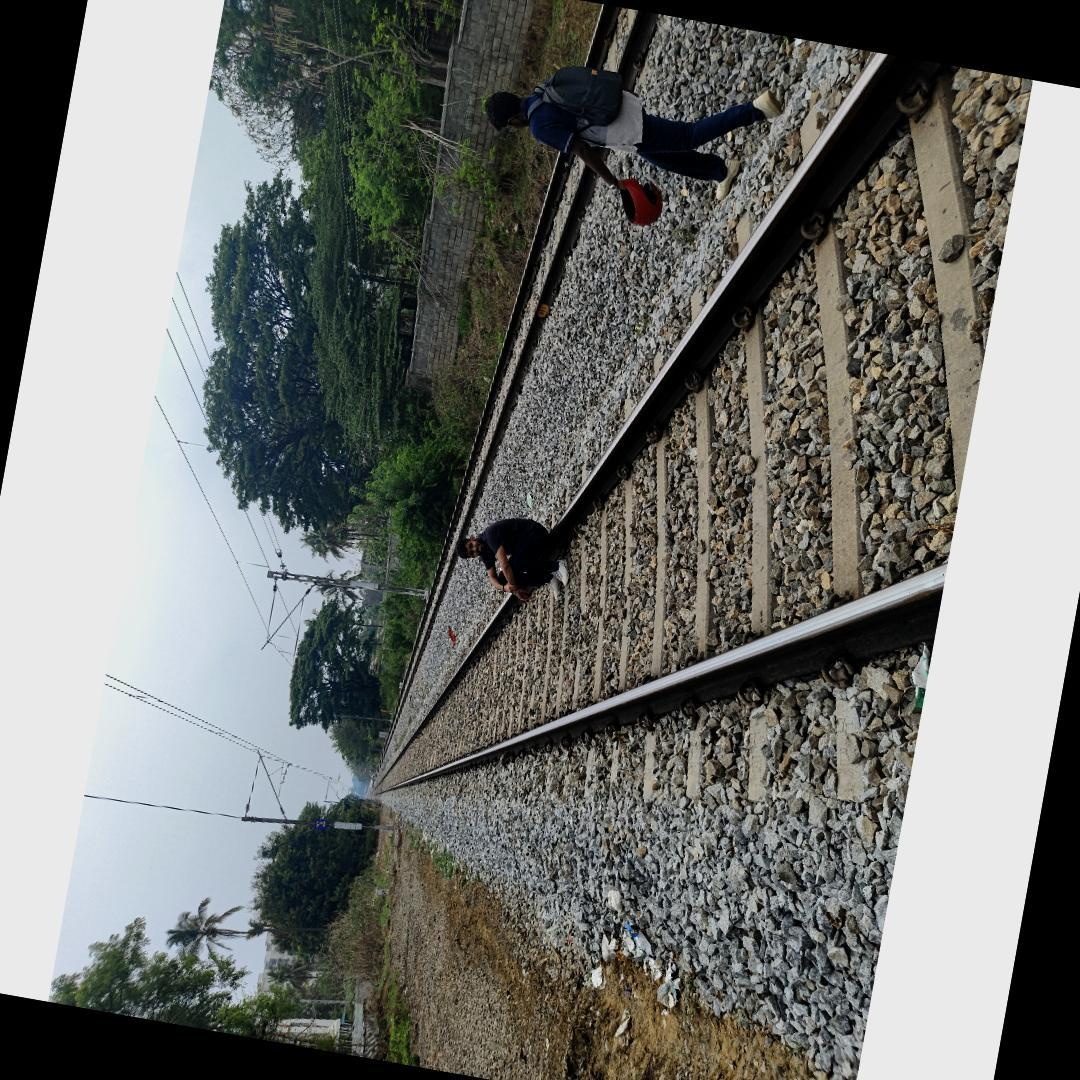sitting: (448, 505, 578, 608)
standing: (471, 39, 786, 221)
track: (361, 50, 1033, 801)
